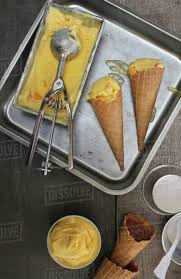ice-cream: (21, 9, 100, 124), (51, 217, 99, 267), (90, 77, 121, 100), (129, 58, 163, 75)
